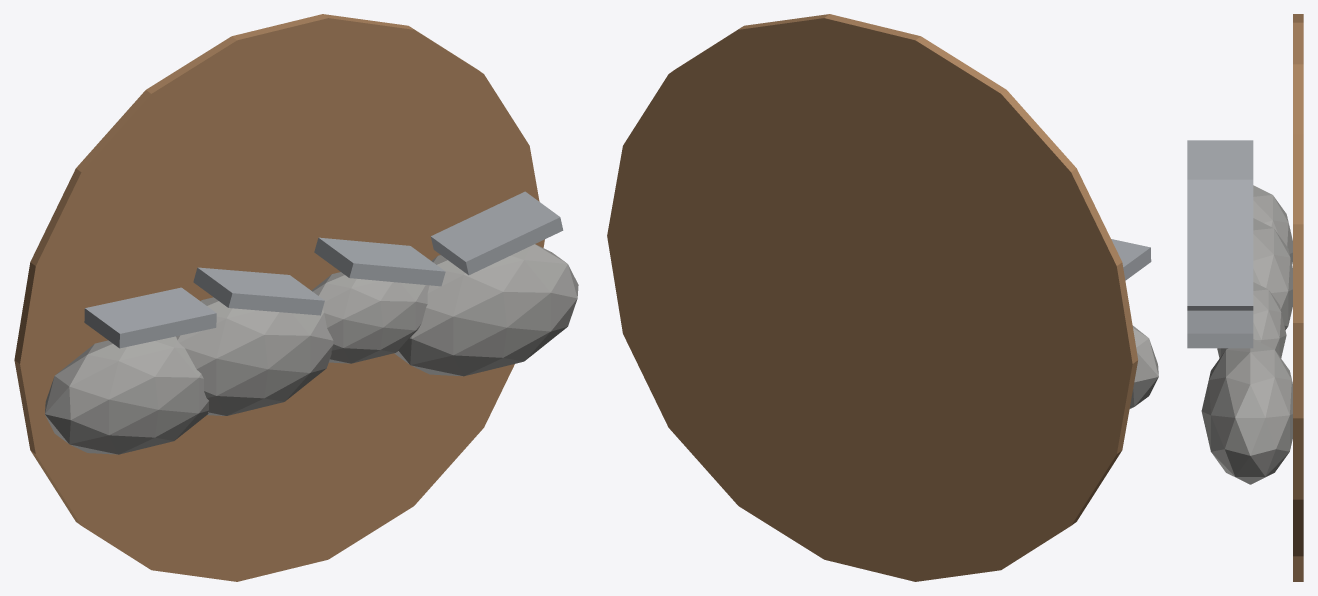
The model's file is 02_local_prop_cluster.glb.
3 renders of one model, left to right at view 1: azimuth 30°, elevation 25°; view 2: azimuth 150°, elevation 25°; view 3: azimuth 270°, elevation 25°, orthographic. The views are drawn at different scales.
Visible parts, largest first — view 1: scatter_base, scrap_rock_3, scrap_rock_0, scrap_rock_1, scrap_rock_2, scrap_plate_3, scrap_plate_0, scrap_plate_1, scrap_plate_2; view 2: scatter_base, scrap_rock_0, scrap_plate_0; view 3: scrap_rock_3, scatter_base, scrap_plate_2, scrap_plate_1, scrap_rock_1, scrap_plate_0, scrap_plate_3, scrap_rock_2, scrap_rock_0.
Boxes of the visible parts, <box> form: scatter_base: <box>14,14,544,581</box>; scrap_rock_3: <box>394,244,578,376</box>; scrap_rock_0: <box>45,336,209,454</box>; scrap_rock_1: <box>176,297,333,415</box>; scrap_rock_2: <box>311,272,429,363</box>; scrap_plate_3: <box>431,191,563,275</box>; scrap_plate_0: <box>84,287,216,348</box>; scrap_plate_1: <box>193,267,324,315</box>; scrap_plate_2: <box>314,237,445,286</box>; scatter_base: <box>607,14,1137,581</box>; scrap_rock_0: <box>1129,325,1158,408</box>; scrap_plate_0: <box>1111,239,1151,280</box>; scrap_rock_3: <box>1201,339,1292,484</box>; scatter_base: <box>1293,14,1303,581</box>; scrap_plate_2: <box>1187,234,1253,310</box>; scrap_plate_1: <box>1187,179,1253,234</box>; scrap_rock_1: <box>1253,218,1292,329</box>; scrap_plate_0: <box>1187,140,1253,179</box>; scrap_plate_3: <box>1187,310,1253,348</box>; scrap_rock_2: <box>1217,282,1286,358</box>; scrap_rock_0: <box>1253,185,1292,264</box>.
Bounding box in the file's own units: 1.94 × 1.87 × 0.3875.
